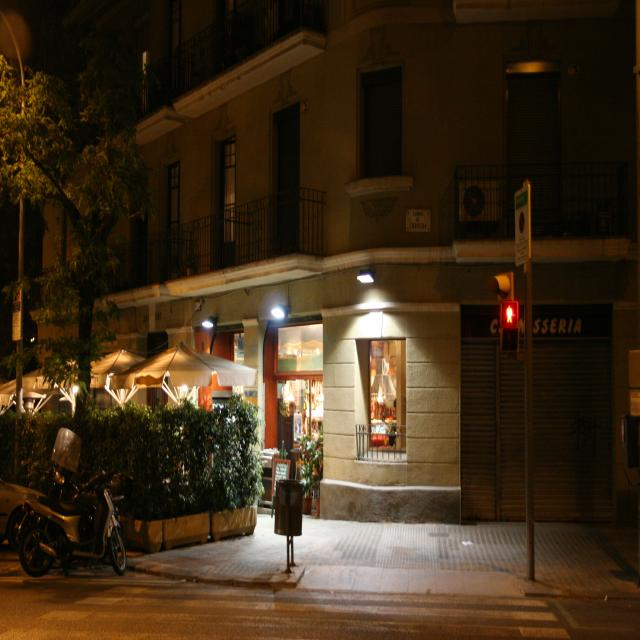Motorbike: (20, 432, 125, 589)
